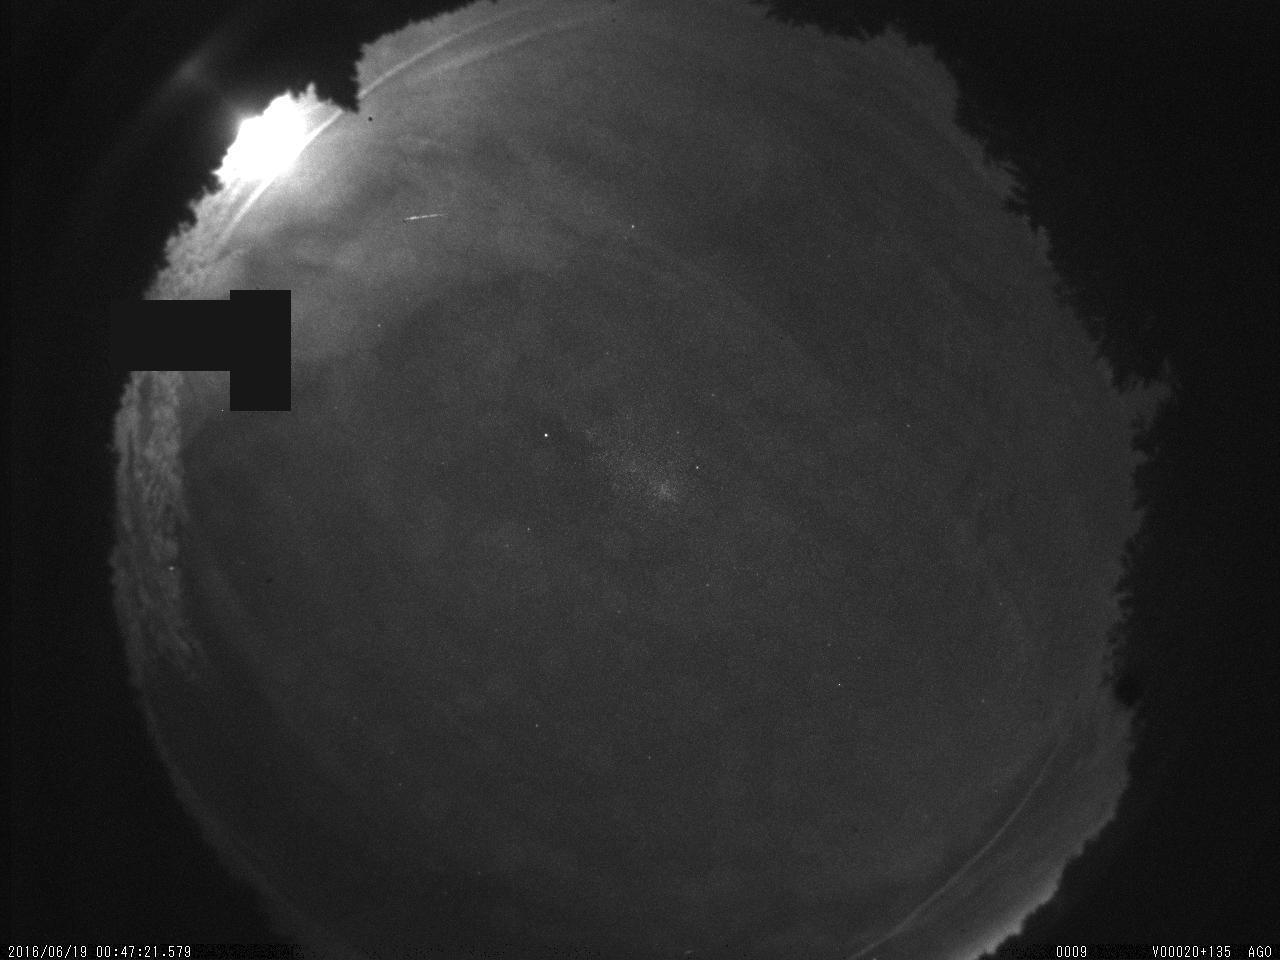Meteor: (400, 204, 450, 228)
